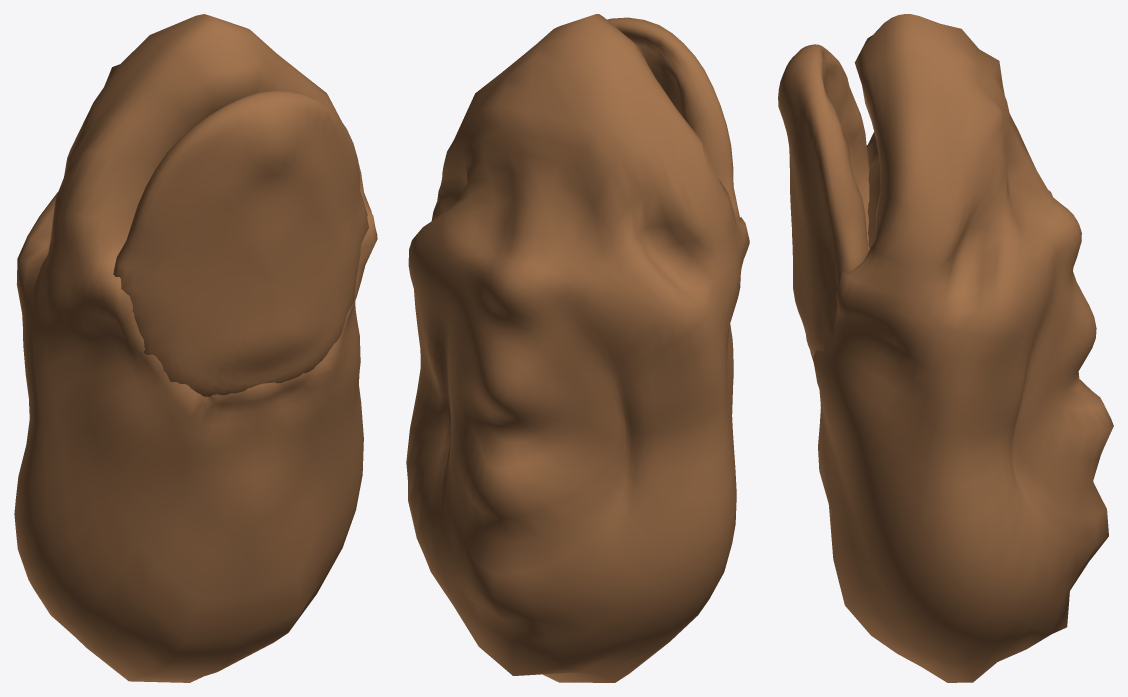
File: Alien Puppet.fbx
3 renders of one model, left to right at view 1: azimuth 30°, elevation 25°; view 2: azimuth 150°, elevation 25°; view 3: azimuth 270°, elevation 25°, orthographic. The views are drawn at different scales.
Parts seen in each view (by area): view 1: Alien Puppet - Ducktus; view 2: Alien Puppet - Ducktus; view 3: Alien Puppet - Ducktus.
Part boxes in pixels (x1=…): Alien Puppet - Ducktus: x1=14, y1=14, x2=377, y2=682; Alien Puppet - Ducktus: x1=406, y1=14, x2=749, y2=682; Alien Puppet - Ducktus: x1=778, y1=14, x2=1113, y2=682.
Size of the model in its own units: 52.39 by 103 by 47.73.
